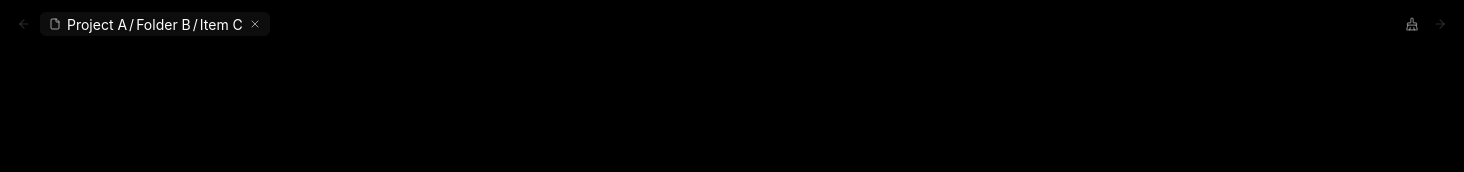
it: ProjectRecentItemsTags Component › 点击芯片关闭入口直接移除最近项，且不触发跳转导航
Click the button named "Close".
click(255, 24)  # box [249,18,261,30]
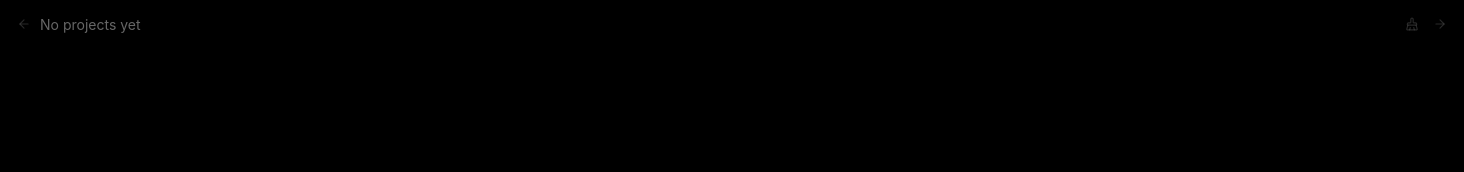
Result: the button "Project A / Folder B / Item C" is gone
